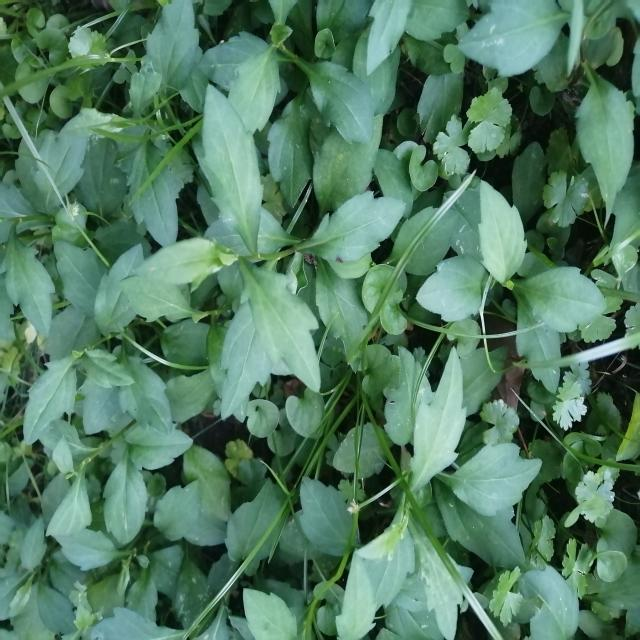Indian aster: (177, 104, 378, 375), (447, 172, 608, 381)
